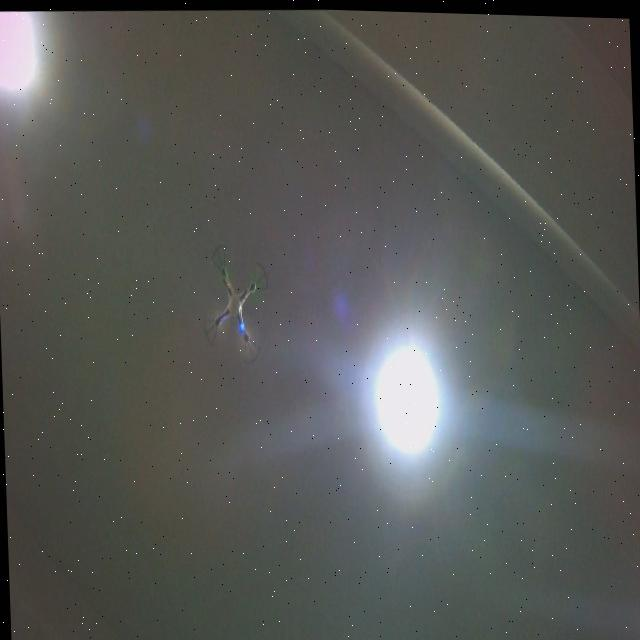drone: (197, 238, 274, 368)
